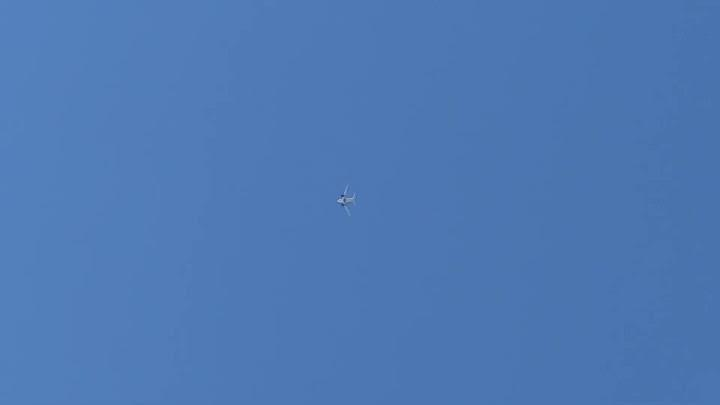Plane: (320, 181, 372, 221)
